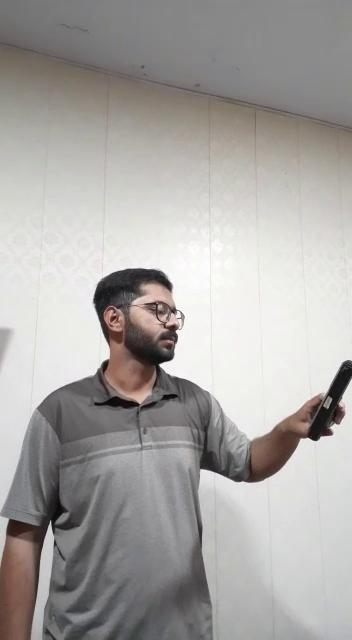criminal: (0, 262, 352, 640)
weapon: (301, 353, 352, 446)
